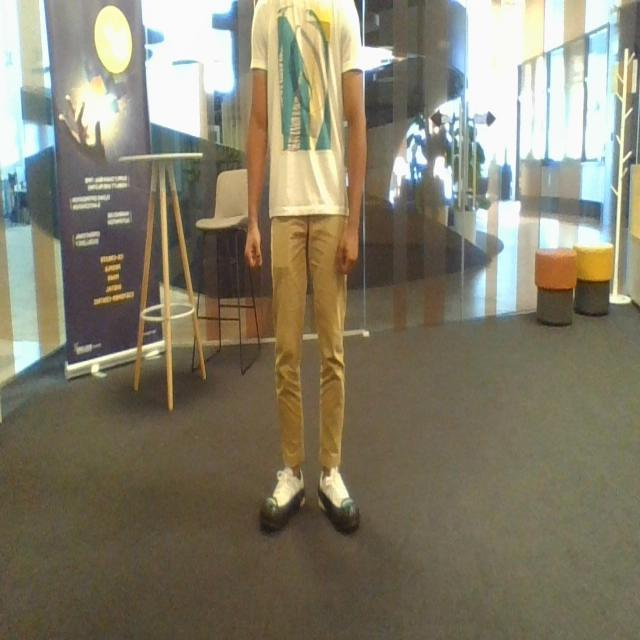shoes: (248, 460, 308, 534), (313, 459, 371, 529)
